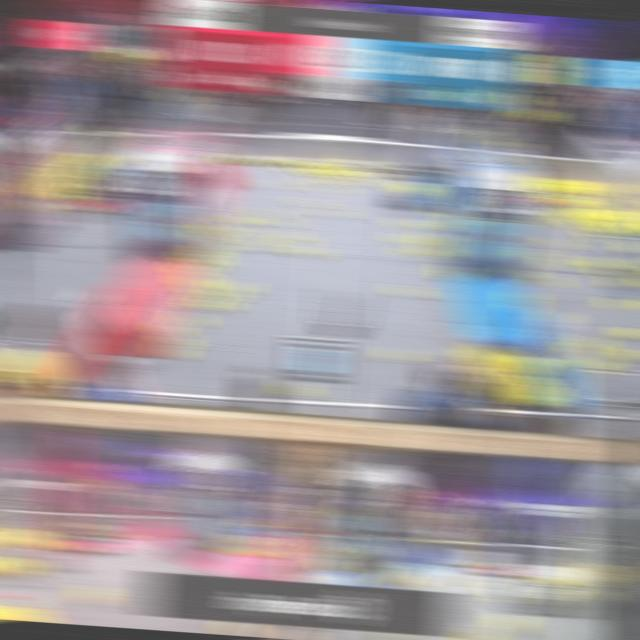ball_airborne: (112, 47, 137, 66), (514, 106, 539, 119), (125, 47, 149, 60), (471, 123, 494, 136), (477, 149, 503, 160), (477, 134, 500, 146), (510, 93, 534, 104), (504, 141, 528, 152), (85, 125, 108, 136), (529, 110, 552, 121), (167, 91, 188, 103), (94, 462, 117, 472), (506, 40, 530, 49), (173, 101, 195, 110)
ball_ground: (78, 583, 108, 607), (495, 611, 525, 634), (461, 623, 494, 640), (279, 381, 306, 398), (495, 592, 521, 608), (584, 356, 610, 372), (385, 348, 411, 363), (334, 572, 361, 586), (175, 310, 200, 325), (360, 543, 385, 558), (158, 343, 182, 358), (156, 322, 180, 337), (566, 340, 590, 354), (394, 284, 418, 298), (554, 210, 579, 223), (383, 571, 408, 584), (422, 244, 447, 257), (186, 299, 212, 311), (613, 276, 637, 289), (610, 298, 636, 310), (210, 280, 236, 292), (225, 280, 250, 292), (579, 336, 604, 348), (509, 292, 534, 304), (520, 248, 544, 260), (464, 574, 488, 586), (533, 276, 557, 288), (234, 212, 258, 224), (395, 234, 419, 246), (204, 298, 228, 310), (509, 266, 533, 278), (577, 362, 601, 374), (518, 215, 542, 227), (586, 226, 612, 237), (620, 327, 640, 341), (406, 246, 429, 258), (622, 347, 640, 362), (542, 258, 566, 269), (568, 219, 592, 230), (204, 225, 228, 236), (294, 247, 317, 258), (254, 206, 277, 217), (247, 235, 270, 246), (41, 190, 66, 200), (280, 244, 304, 254), (548, 238, 572, 248), (26, 201, 49, 211), (272, 230, 295, 240), (306, 176, 329, 186), (266, 216, 289, 226), (70, 202, 93, 212), (226, 158, 249, 168), (196, 230, 219, 240), (61, 543, 86, 552), (322, 208, 344, 218), (422, 220, 444, 230), (446, 560, 468, 570), (594, 234, 618, 243), (319, 183, 343, 192), (298, 199, 321, 208), (433, 209, 456, 218), (342, 177, 364, 186), (218, 156, 240, 165), (397, 220, 420, 228), (424, 232, 447, 240), (102, 154, 125, 162), (360, 170, 382, 178), (624, 242, 640, 252)
goal: (129, 100, 207, 150), (458, 127, 536, 165)
robot_blue: (432, 334, 526, 426), (418, 145, 474, 195), (388, 160, 439, 213)
robot_red: (62, 158, 137, 215), (494, 155, 554, 214)
